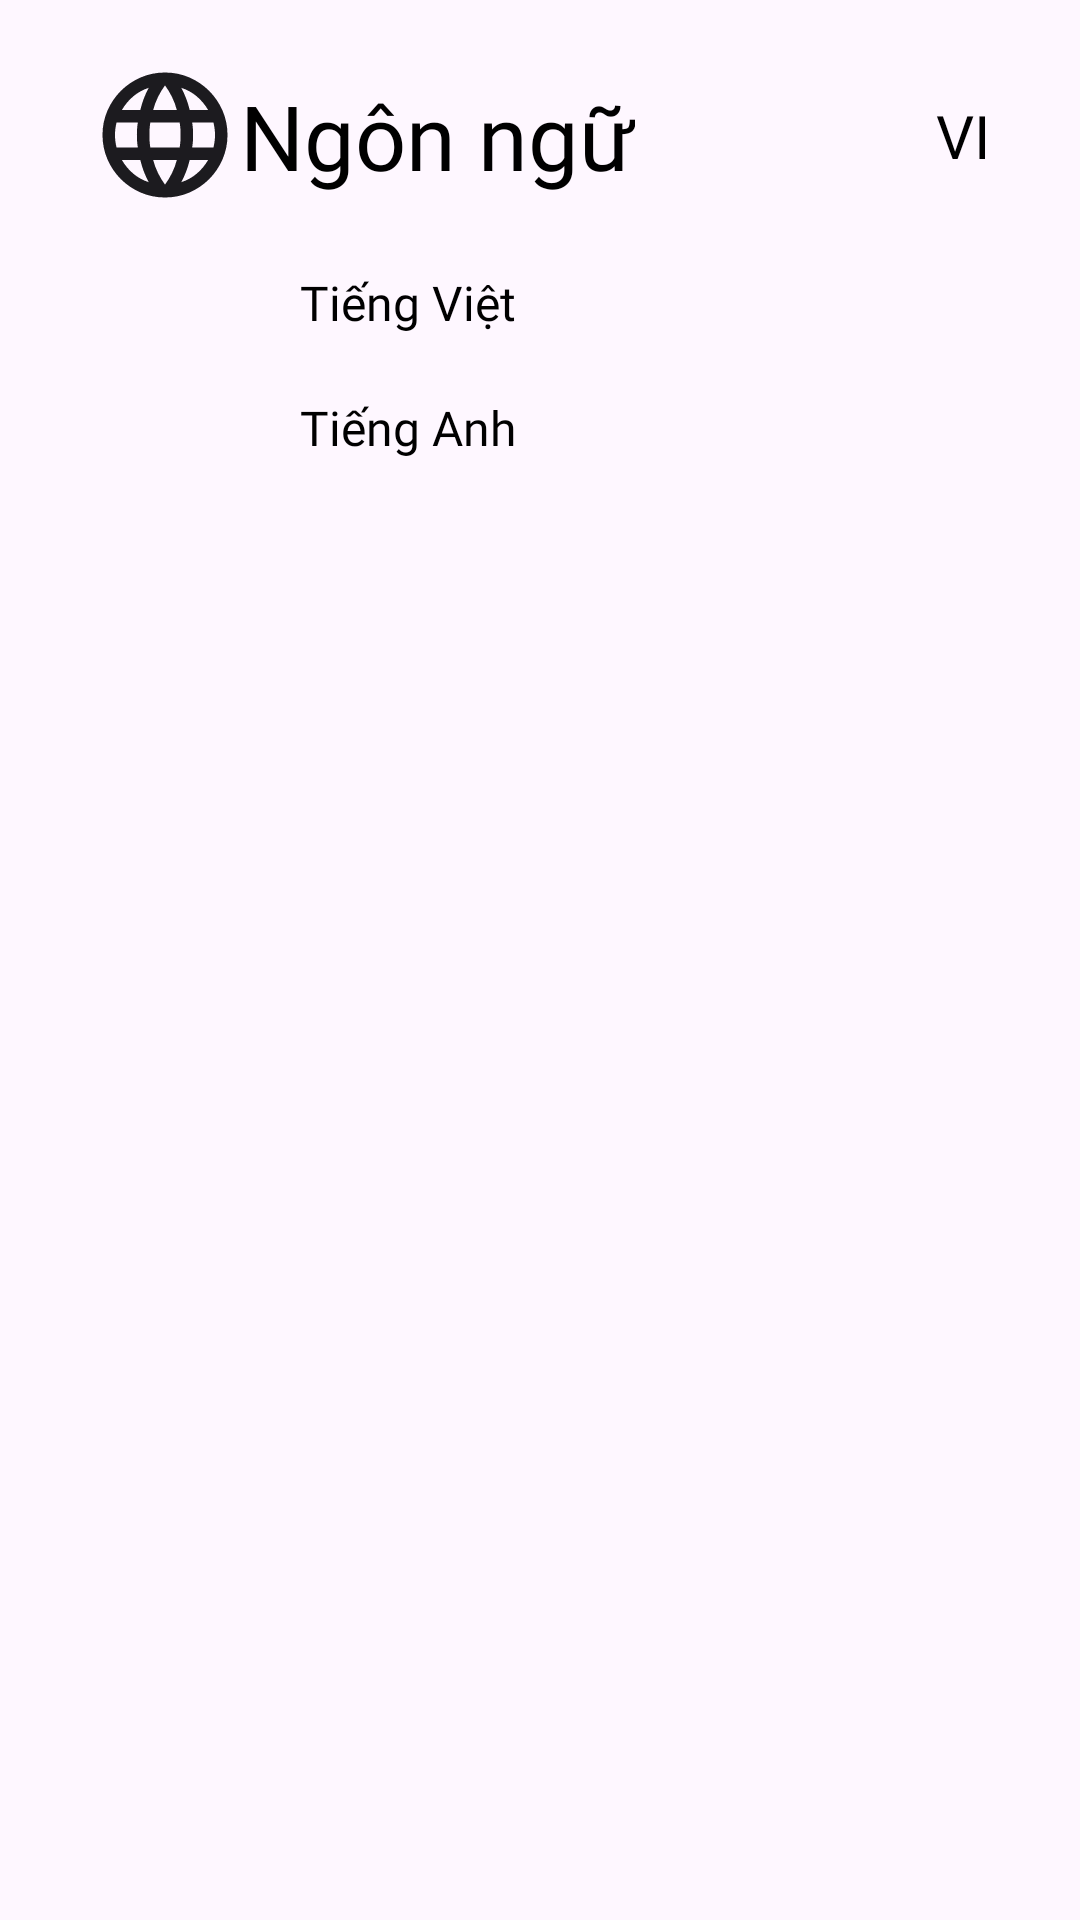

Icon click points for this 1080px×1920px phone screenshot, format [x,y]:
language: [165,135]
